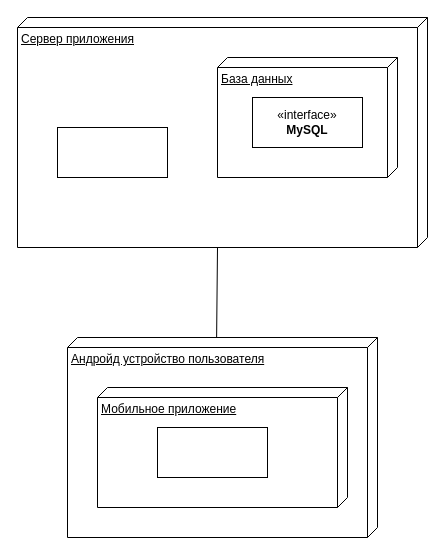
Some shapes in this 445 by 555 pixel diagram are drawn without their labels. Here are the shapes that lost their labels. From the top down, the centre of each, then its label:
At point 112,152: "«interface» index.py".
At point 212,452: "«interface» PhotoFocus.apk".
